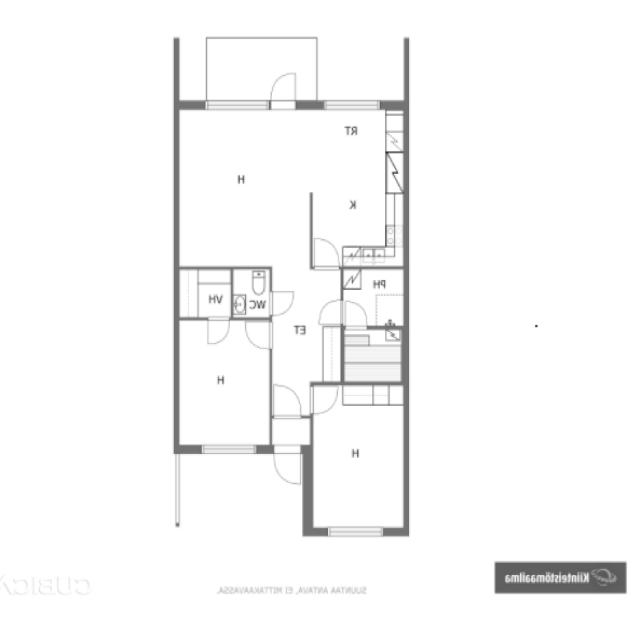door: (271, 380, 343, 419), (231, 268, 273, 321), (271, 443, 305, 489), (268, 68, 301, 113), (270, 380, 303, 421), (309, 234, 343, 273), (308, 383, 341, 418), (243, 319, 274, 352), (341, 297, 370, 332), (267, 287, 298, 319), (204, 315, 232, 348), (316, 297, 344, 328)
window: (192, 438, 264, 459), (200, 95, 272, 113), (321, 523, 389, 541), (320, 96, 386, 113)
zone: (175, 105, 312, 267), (309, 102, 408, 268), (309, 384, 408, 530), (176, 318, 272, 449), (341, 326, 407, 384), (342, 268, 405, 328), (175, 268, 232, 318), (232, 267, 272, 320)
